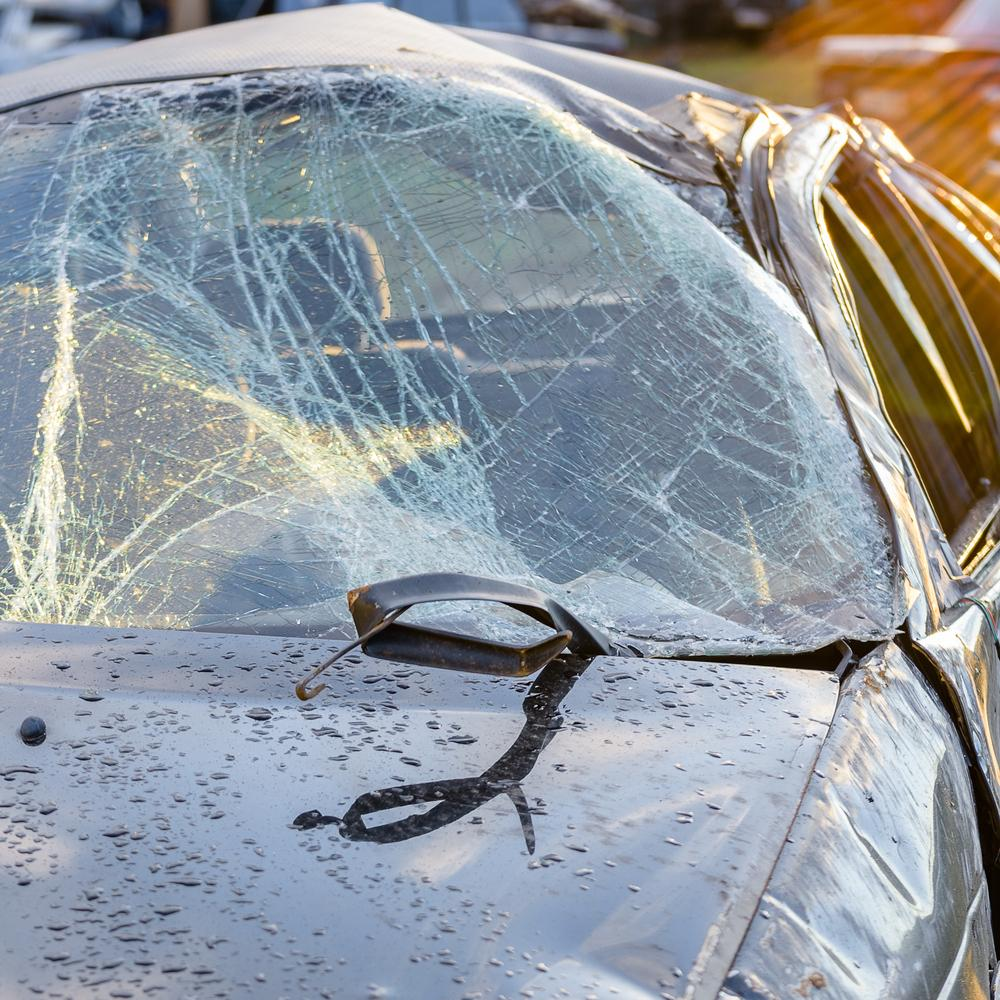dent: (370, 1, 789, 282), (705, 667, 954, 1000), (779, 191, 945, 634)
glass shatter: (0, 63, 911, 656)
